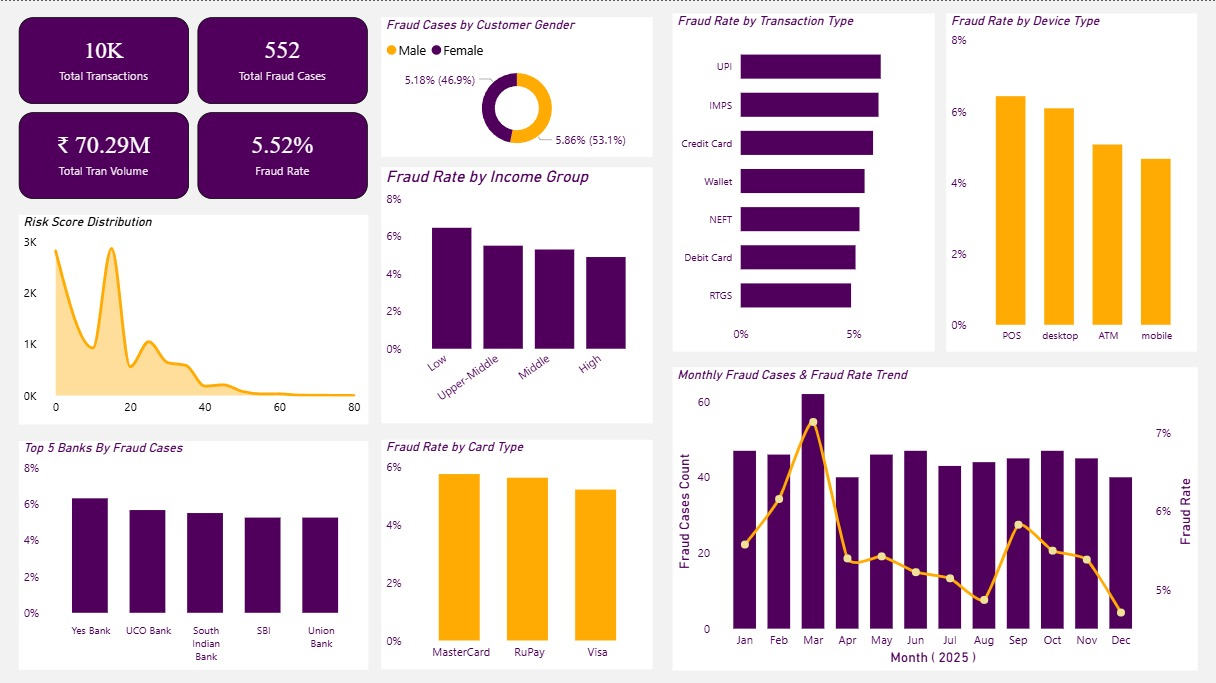

The page's visual inventory and layout, read from the dashboard file:
{"tool":"powerbi","page":{"name":"Page 1","canvas":[1280,720],"ordinal":0},"visuals":[{"type":"cardVisual","fields":{"Data":["tbl_Measure.Total Transactions"]},"box":[19.2,16.7,179.5,91],"z":0},{"type":"cardVisual","fields":{"Data":["tbl_Measure.Total Transaction Volume"]},"box":[19.2,116.7,179.5,91],"z":1000},{"type":"cardVisual","fields":{"Data":["tbl_Measure.Total Fraud Cases"]},"box":[207.7,16.7,179.5,91],"z":2000},{"type":"cardVisual","fields":{"Data":["tbl_Measure.Fraud Rate"]},"box":[207.7,116.7,179.5,91],"z":3000},{"type":"lineStackedColumnComboChart","title":"Monthly Fraud Cases & Fraud Rate Trend","fields":{"Y2":["tbl_Measure.Fraud Rate"],"Category":["finance_fraud_dataset.Month Name"],"Y":["tbl_Measure.Total Fraud Cases"]},"box":[707.7,370.5,552.6,333.3],"z":4000},{"type":"donutChart","title":"Fraud Cases by Customer Gender","fields":{"Y":["tbl_Measure.Fraud Rate"],"Category":["finance_fraud_dataset.customer_gender"]},"box":[401.3,16.7,285.9,147.4],"z":6000},{"type":"columnChart","title":"Fraud Rate by Card Type","fields":{"Y":["tbl_Measure.Fraud Rate"],"Category":["finance_fraud_dataset.card_type"]},"box":[401.3,462.8,285.9,241],"z":7000},{"type":"columnChart","title":"Fraud Rate by Income Group","fields":{"Category":["finance_fraud_dataset.income_group"],"Y":["tbl_Measure.Fraud Rate"]},"box":[401.3,175.6,285.9,269.2],"z":8000},{"type":"areaChart","title":"Fraud Cases by Customer Gender","fields":{"Category":["finance_fraud_dataset.risk_score"],"Y":["CountNonNull(finance_fraud_dataset.transaction_id)"]},"box":[19.2,224.4,367.9,220.5],"z":9000},{"type":"columnChart","title":"Top 5 Banks By Fraud Cases","fields":{"Y":["tbl_Measure.Fraud Rate"],"Category":["finance_fraud_dataset.bank_name"]},"box":[19.2,462.8,367.9,241],"z":10000}]}

Visuals, with their boxes in screenshot pixels (x1, y1, x2, y2), scaled from the page's 1280x720 canvas onto the 1216x683 screenshot:
cardVisual - tbl_Measure.Total Transactions: (18,16,189,102)
cardVisual - tbl_Measure.Total Transaction Volume: (18,111,189,197)
cardVisual - tbl_Measure.Total Fraud Cases: (197,16,368,102)
cardVisual - tbl_Measure.Fraud Rate: (197,111,368,197)
"Monthly Fraud Cases & Fraud Rate Trend" lineStackedColumnComboChart: (672,351,1197,668)
"Fraud Cases by Customer Gender" donutChart: (381,16,653,156)
"Fraud Rate by Card Type" columnChart: (381,439,653,668)
"Fraud Rate by Income Group" columnChart: (381,167,653,422)
"Fraud Cases by Customer Gender" areaChart: (18,213,368,422)
"Top 5 Banks By Fraud Cases" columnChart: (18,439,368,668)
